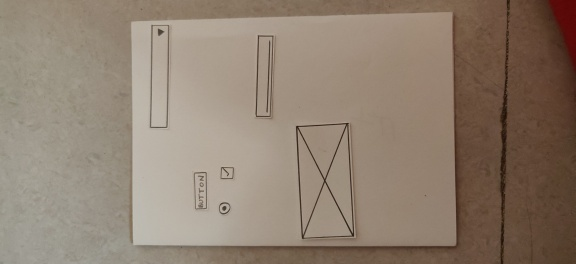button: (192, 170, 209, 210)
checkbox: (219, 165, 235, 181)
dropdown: (148, 23, 170, 130)
img: (293, 123, 359, 239)
radio: (216, 201, 232, 216)
text: (254, 33, 275, 118)
